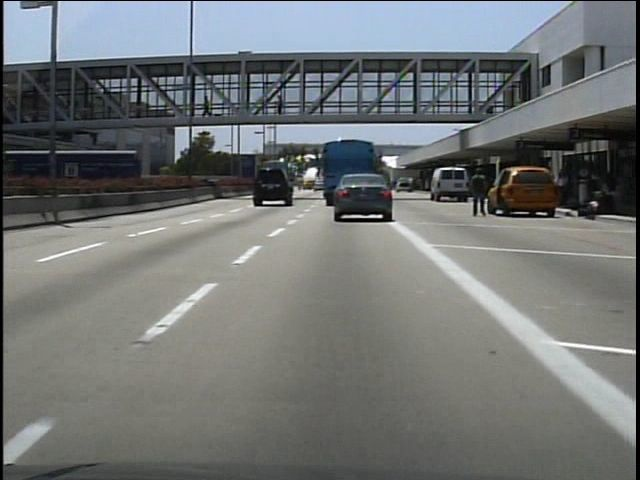person: (466, 162, 491, 221), (200, 92, 216, 119), (273, 93, 288, 120)
